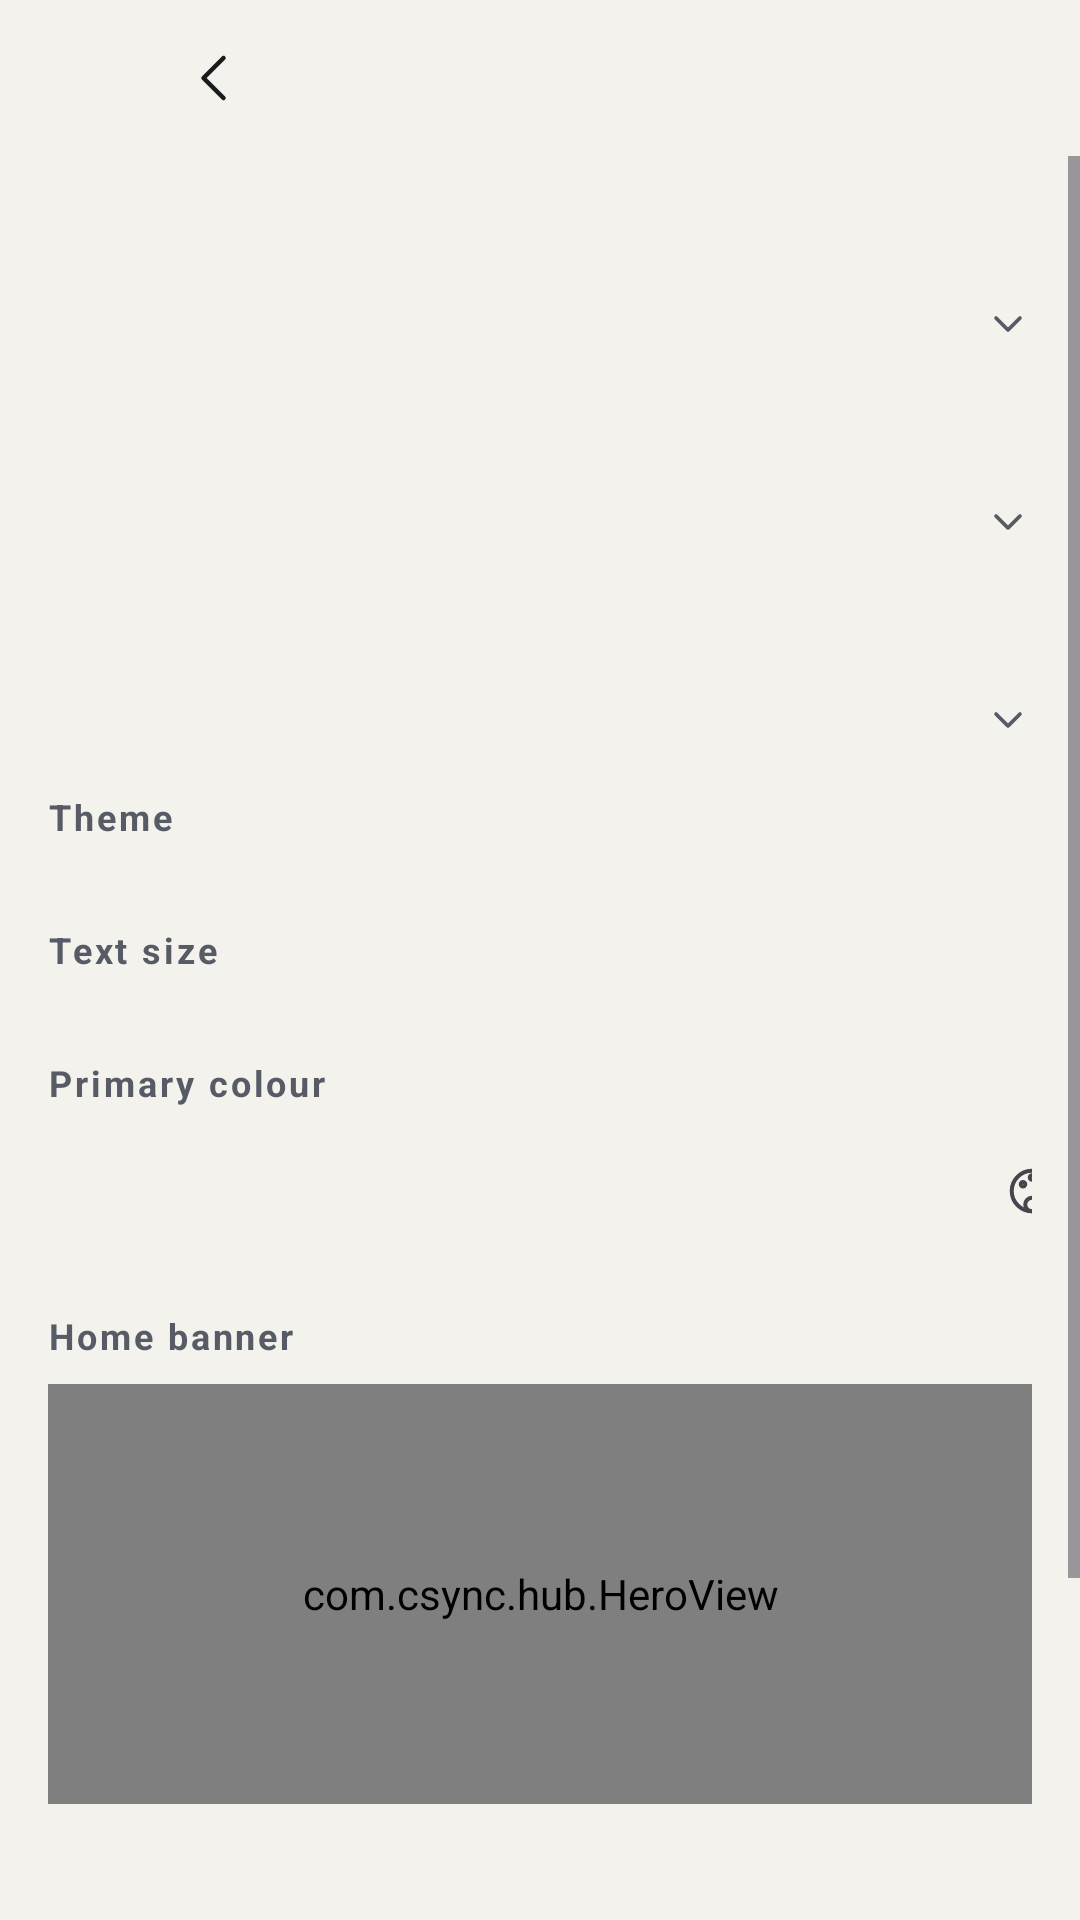

Screen size 1080px×1920px. Icon name, then its box in pixels as (x1, y1, x2, y2):
Back: (201, 55, 226, 101)
csi chevron: (994, 316, 1022, 332), (994, 514, 1022, 530), (994, 712, 1022, 728)
